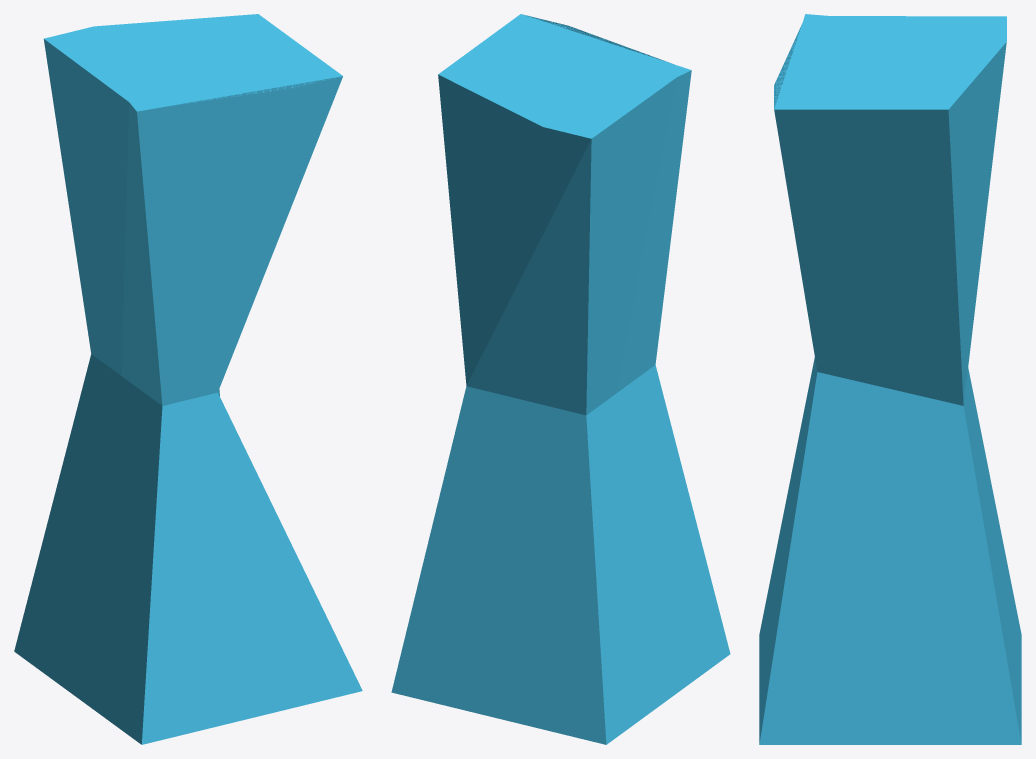
File: Pedestal_boton_Hielo.glb
The picture shows the model from 3 angles, left to right: view 1: azimuth 30°, elevation 25°; view 2: azimuth 150°, elevation 25°; view 3: azimuth 270°, elevation 25°; orthographic projection. The views are drawn at different scales.
Visible parts, largest first — view 1: Cube; view 2: Cube; view 3: Cube.
Boxes of the visible parts, bbox=[...] form: Cube: bbox=[14, 14, 362, 744]; Cube: bbox=[391, 14, 730, 744]; Cube: bbox=[759, 14, 1021, 744].
Size of the model in its own units: 0.7552 by 2 by 0.7552.
